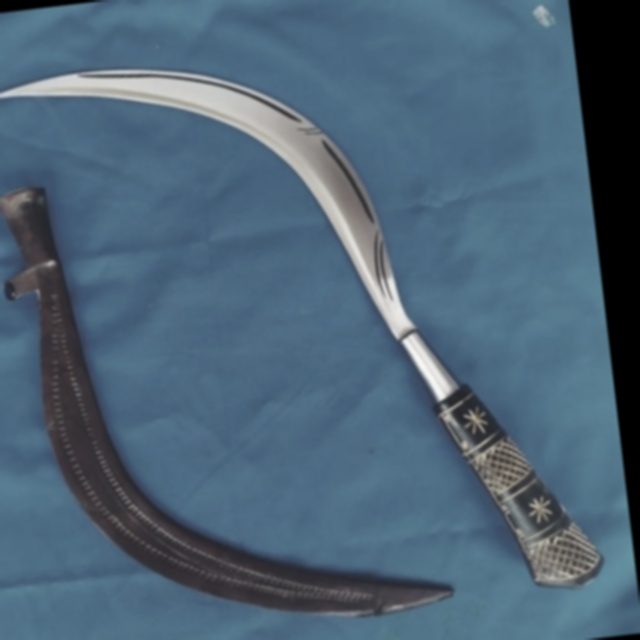Sharp-Object: (35, 0, 592, 640)
